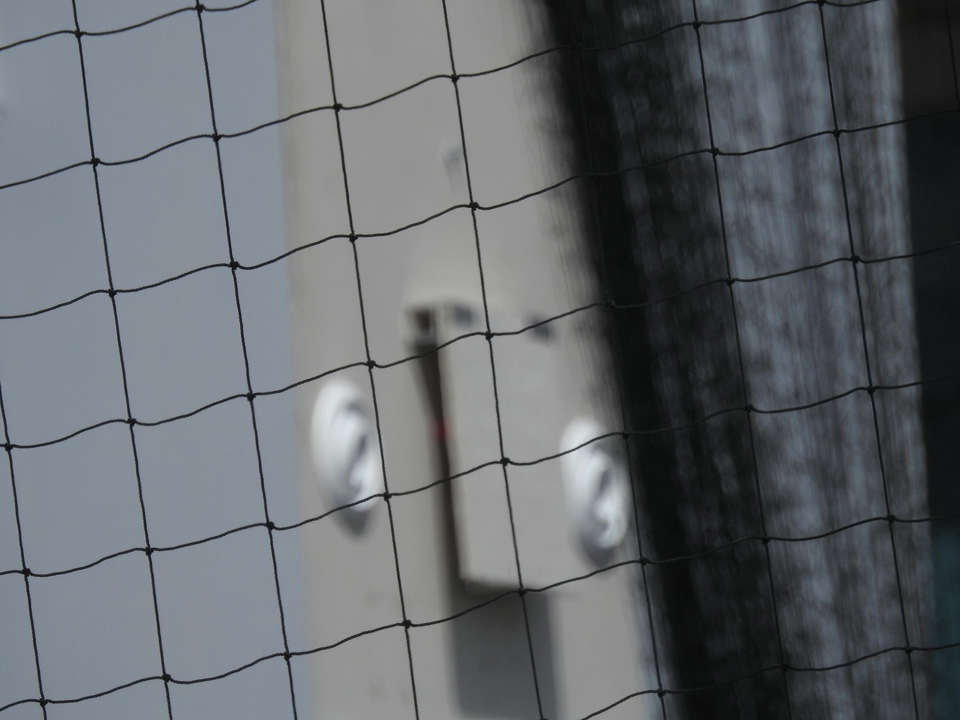facade: (315, 289, 631, 594)
